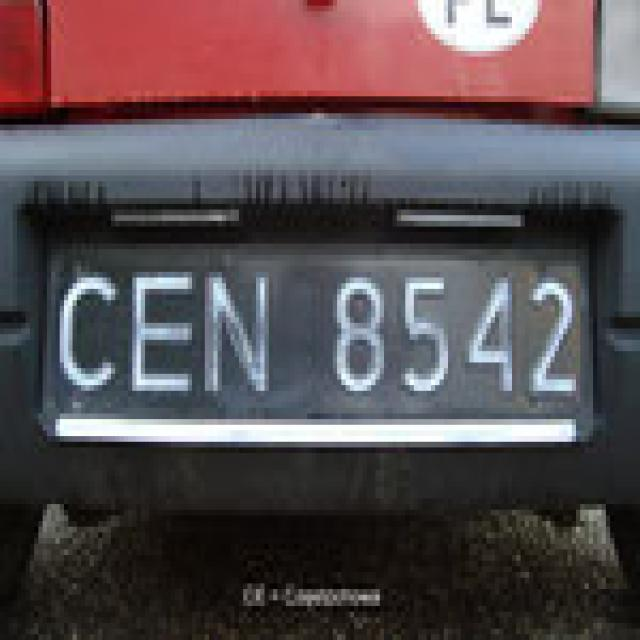pl_license_plate: (42, 238, 584, 408)
